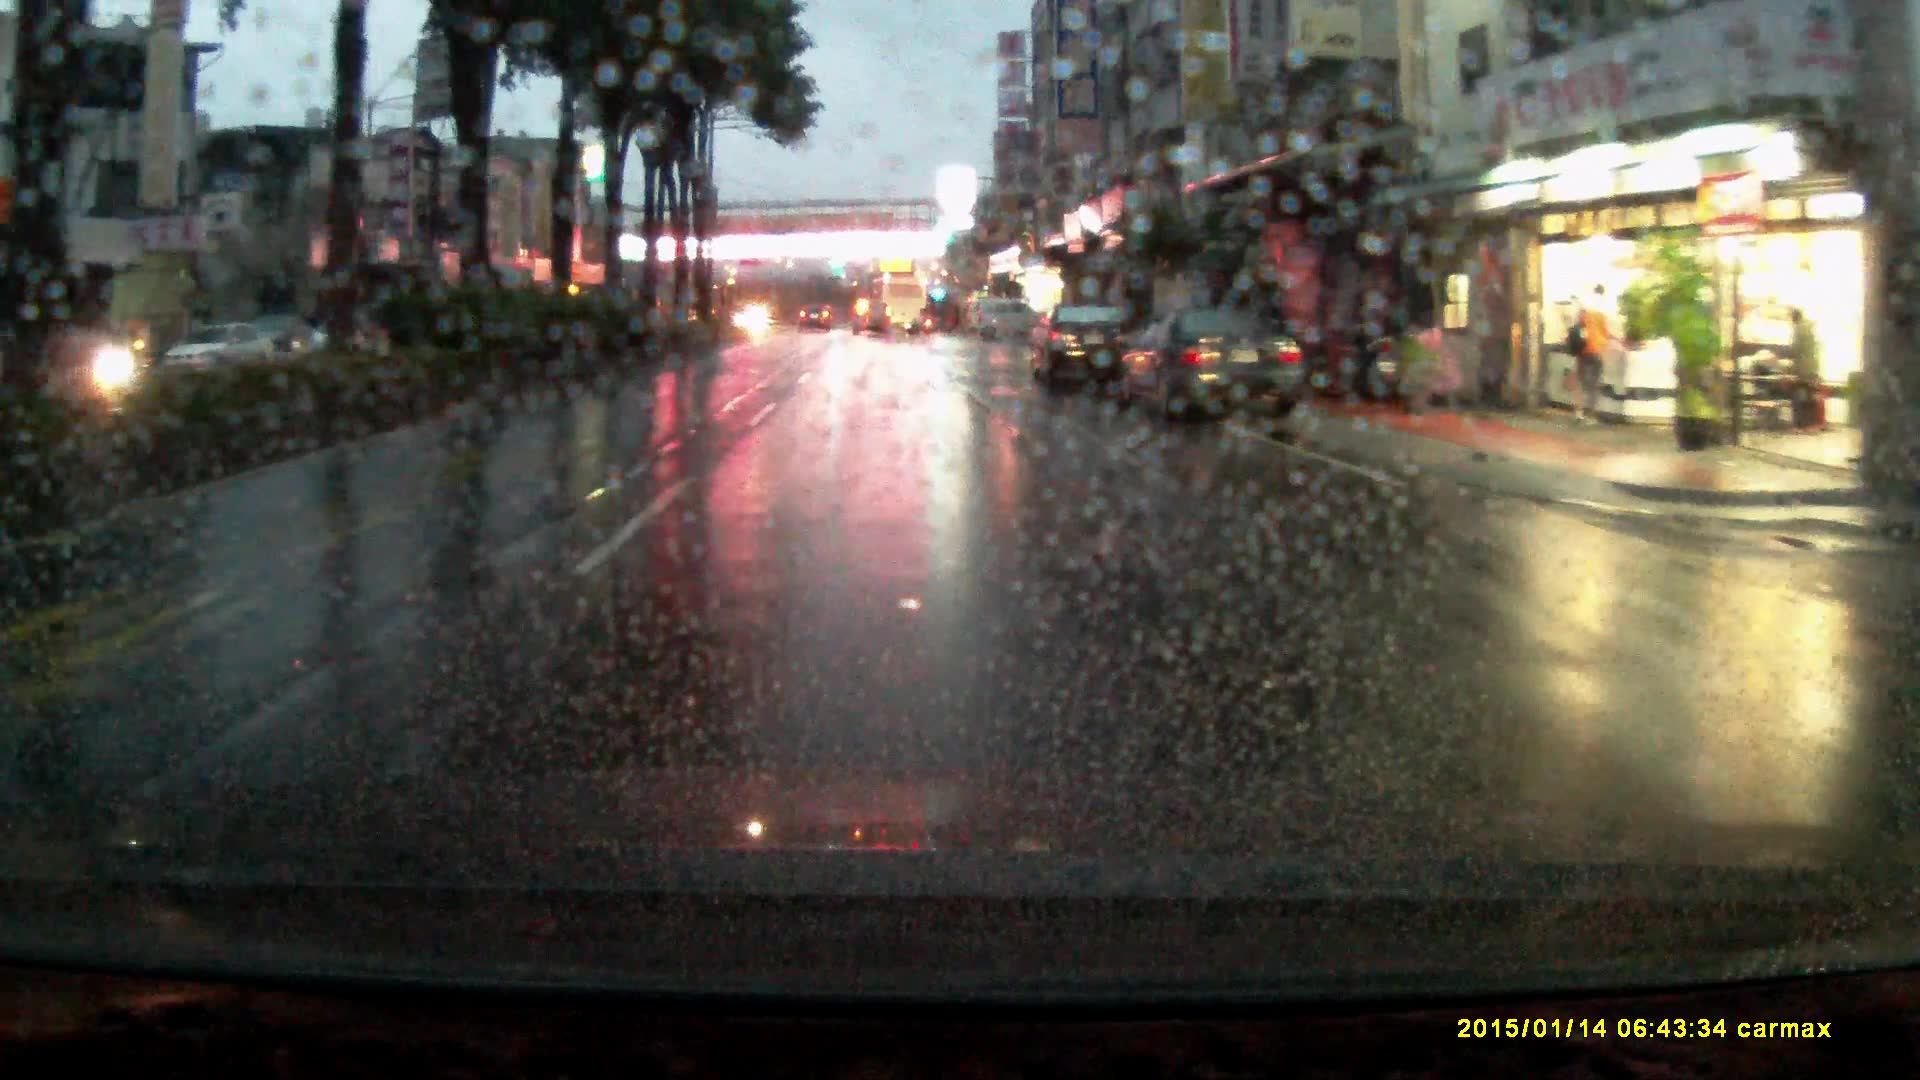vehicle: (1110, 305, 1312, 422), (1035, 301, 1142, 398), (162, 323, 280, 384), (968, 301, 1047, 345), (872, 278, 928, 336), (853, 297, 893, 334), (799, 301, 833, 330)
